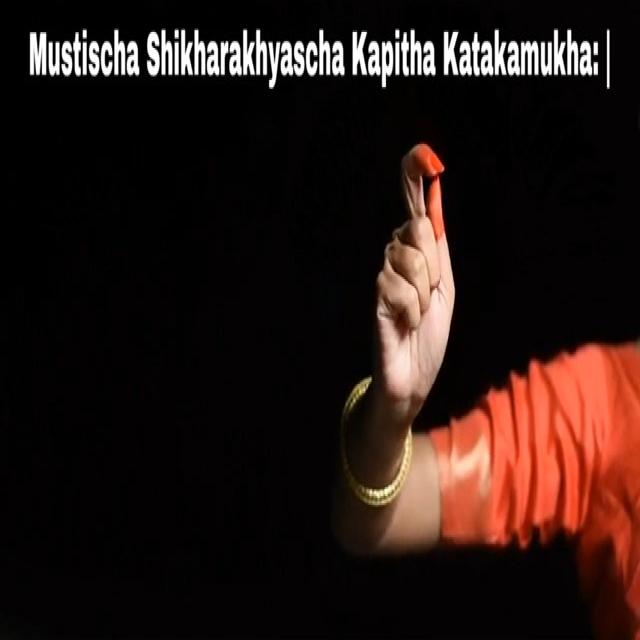Kapittha: (349, 112, 474, 415)
bangle: (320, 432, 426, 515)
text: (13, 13, 621, 96)
